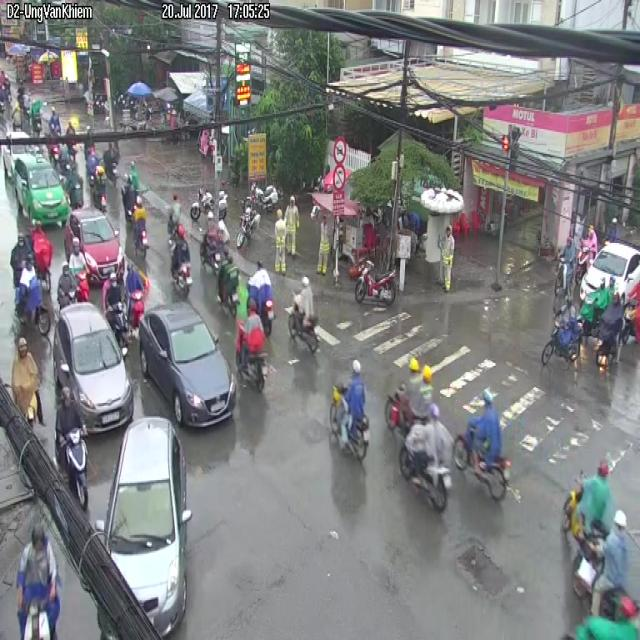car: (12, 156, 69, 225), (331, 360, 368, 458)
traffic-light: (98, 416, 192, 636), (139, 302, 236, 427), (53, 304, 133, 433), (66, 210, 122, 283), (581, 243, 639, 299)
